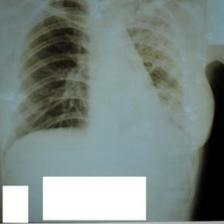tuberculosis: (5, 0, 194, 158)
